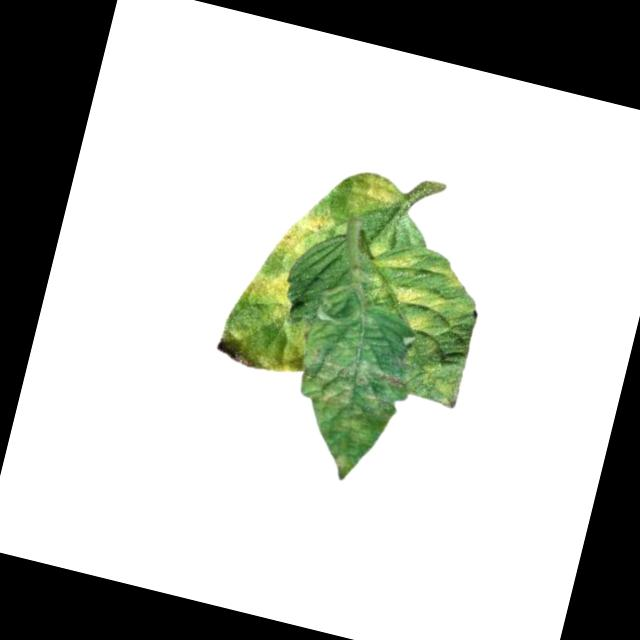Leaf_Mold: (285, 346, 415, 489), (367, 242, 469, 339), (212, 310, 318, 382), (267, 201, 333, 273), (237, 264, 305, 327), (341, 166, 402, 227)
